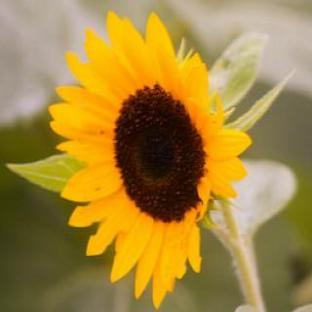sunflower: (4, 11, 293, 312)
